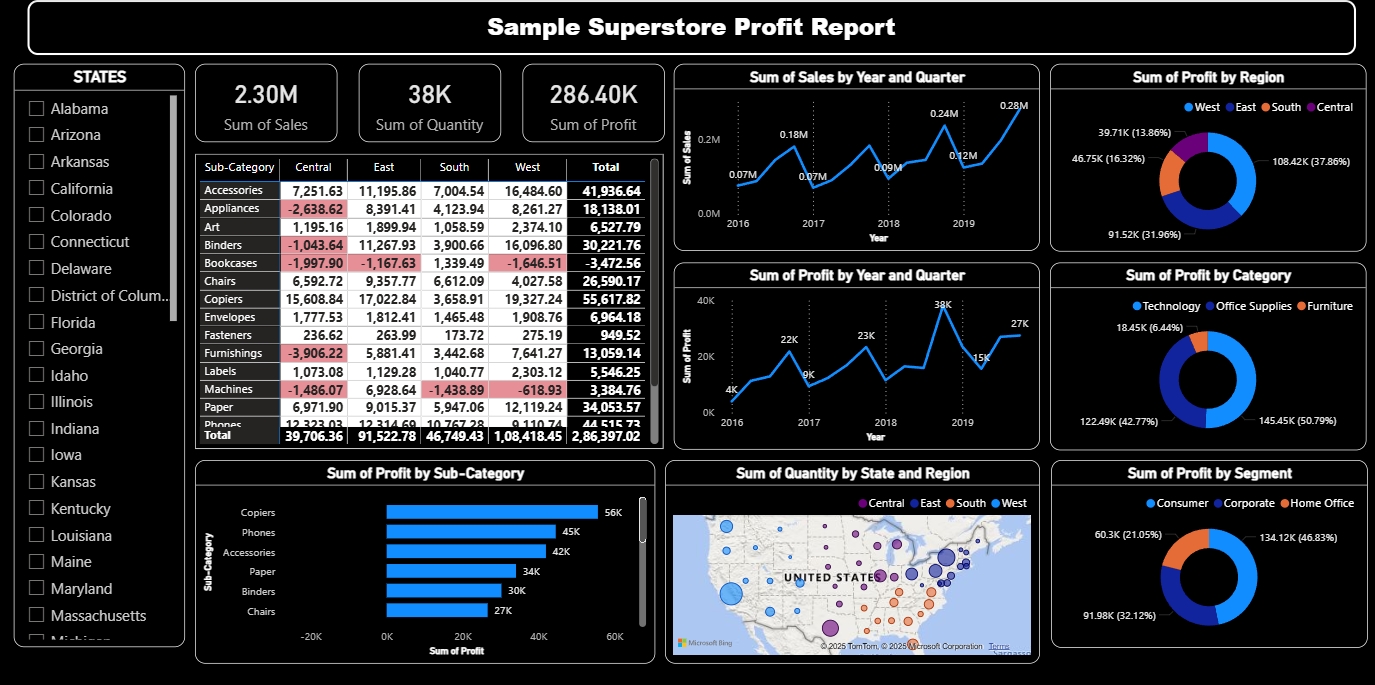

The page's visual inventory and layout, read from the dashboard file:
{"tool":"powerbi","page":{"name":"Page 1","canvas":[1600,800],"ordinal":0},"visuals":[{"type":"textbox","box":[32,0,1545.1,64],"z":0},{"type":"donutChart","fields":{"Category":["Orders.Region"],"Y":["Sum(Orders.Profit)"]},"box":[1220.9,74.1,367.7,218],"z":1},{"type":"donutChart","fields":{"Y":["Sum(Orders.Profit)"],"Category":["Orders.Category"]},"box":[1220.9,305.2,367.7,218],"z":2},{"type":"donutChart","fields":{"Y":["Sum(Orders.Profit)"],"Category":["Orders.Segment"]},"box":[1222.4,534.9,367.7,218],"z":3},{"type":"lineChart","fields":{"Category":["Orders.Order Date.Variation.Date Hierarchy.Year","Orders.Order Date.Variation.Date Hierarchy.Quarter"],"Y":["Sum(Orders.Sales)"]},"box":[783.9,74.2,425.8,217.7],"z":4},{"type":"barChart","fields":{"Category":["Orders.Sub-Category"],"Y":["Sum(Orders.Profit)"]},"box":[226.7,534.9,534.9,236.9],"z":5},{"type":"card","fields":{"Values":["Sum(Orders.Sales)"]},"box":[226.7,74.1,165.7,91.6],"z":6},{"type":"card","fields":{"Values":["Sum(Orders.Profit)"]},"box":[607.6,74.1,165.7,91.6],"z":7},{"type":"card","fields":{"Values":["Sum(Orders.Quantity)"]},"box":[417.2,74.1,165.7,91.6],"z":8},{"type":"pivotTable","fields":{"Rows":["Orders.Sub-Category"],"Columns":["Orders.Region"],"Values":["Sum(Orders.Profit)"]},"box":[227.4,179,545.2,343.5],"z":9},{"type":"slicer","title":"STATES","fields":{"Values":["Orders.State"]},"box":[16,74.1,199.1,678.8],"z":10},{"type":"lineChart","fields":{"Category":["Orders.Order Date.Variation.Date Hierarchy.Year","Orders.Order Date.Variation.Date Hierarchy.Quarter"],"Y":["Sum(Orders.Profit)"]},"box":[783.9,304.8,425.8,217.7],"z":11},{"type":"map","fields":{"Series":["Orders.Region"],"Category":["Orders.State"],"Size":["Sum(Orders.Quantity)"]},"box":[773.3,534.9,436,236.9],"z":12}]}

Visuals, with their boxes in screenshot pixels (x1, y1, x2, y2), scaled from the page's 1600x800 canvas onto the 1375x685 screenshot:
textbox: locate(28, 0, 1355, 55)
donutChart - Orders.Region x Sum(Orders.Profit): locate(1049, 63, 1365, 250)
donutChart - Sum(Orders.Profit) x Orders.Category: locate(1049, 261, 1365, 448)
donutChart - Sum(Orders.Profit) x Orders.Segment: locate(1050, 458, 1366, 645)
lineChart - Orders.Order Date.Variation.Date Hierarchy.Year x Orders.Order Date.Variation.Date Hierarchy.Quarter: locate(674, 64, 1040, 250)
barChart - Orders.Sub-Category x Sum(Orders.Profit): locate(195, 458, 654, 661)
card - Sum(Orders.Sales): locate(195, 63, 337, 142)
card - Sum(Orders.Profit): locate(522, 63, 665, 142)
card - Sum(Orders.Quantity): locate(359, 63, 501, 142)
pivotTable - Orders.Sub-Category x Orders.Region: locate(195, 153, 664, 447)
"STATES" slicer: locate(14, 63, 185, 645)
lineChart - Orders.Order Date.Variation.Date Hierarchy.Year x Orders.Order Date.Variation.Date Hierarchy.Quarter: locate(674, 261, 1040, 447)
map - Orders.Region x Orders.State: locate(665, 458, 1039, 661)
